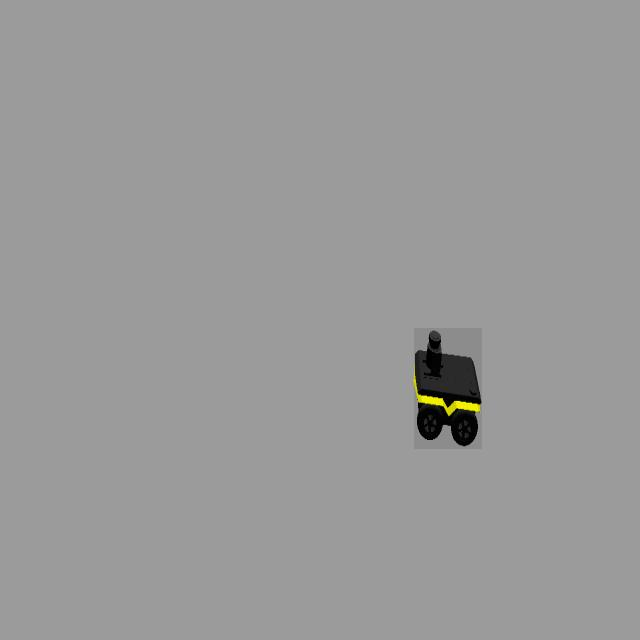jackal: (414, 328, 482, 449)
